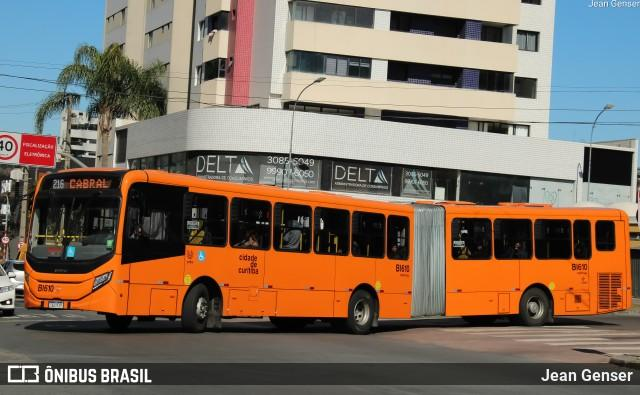CABRAL: (67, 174, 113, 190)
